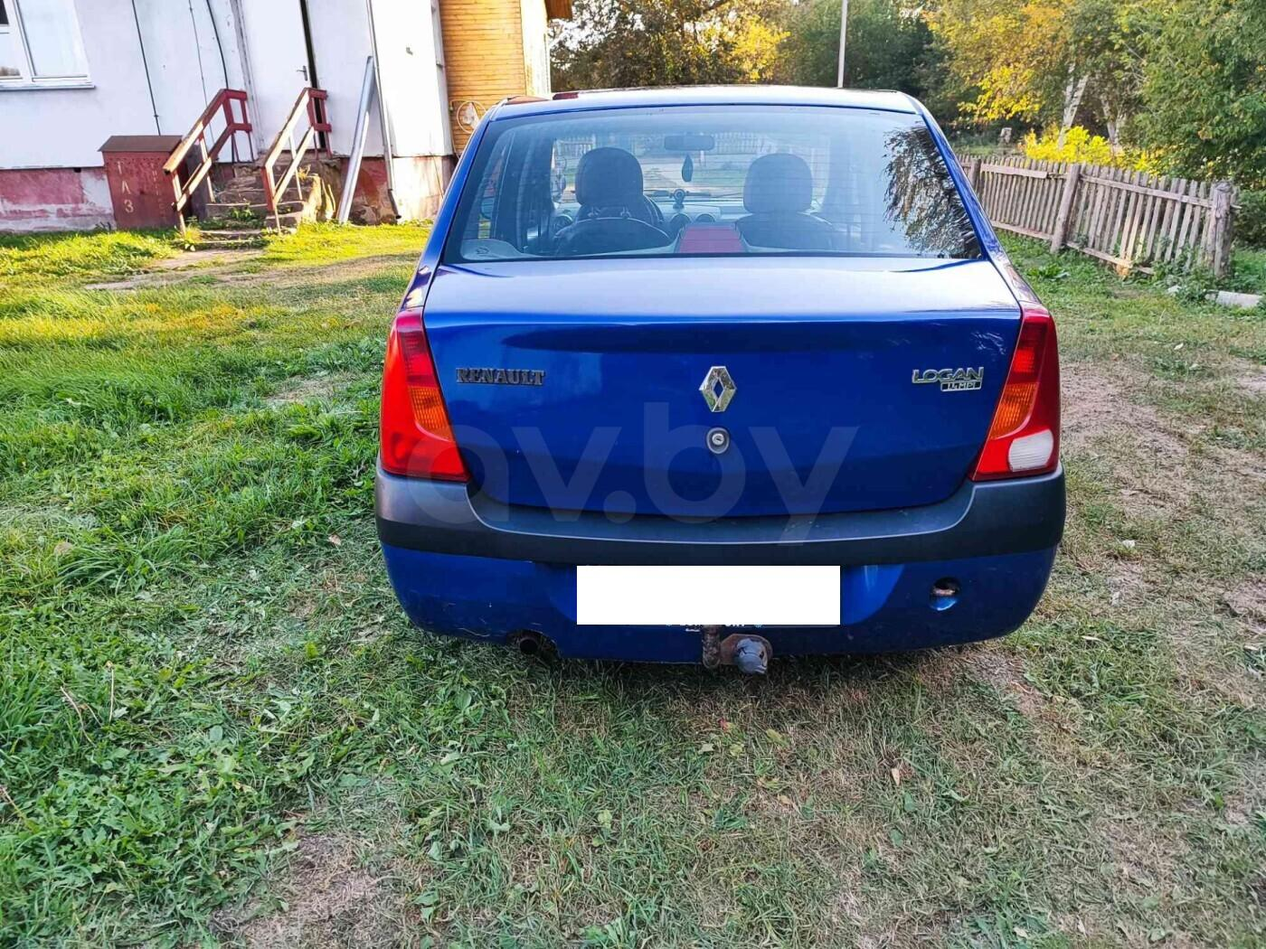Logan_2004-2009: (371, 83, 1085, 700)
